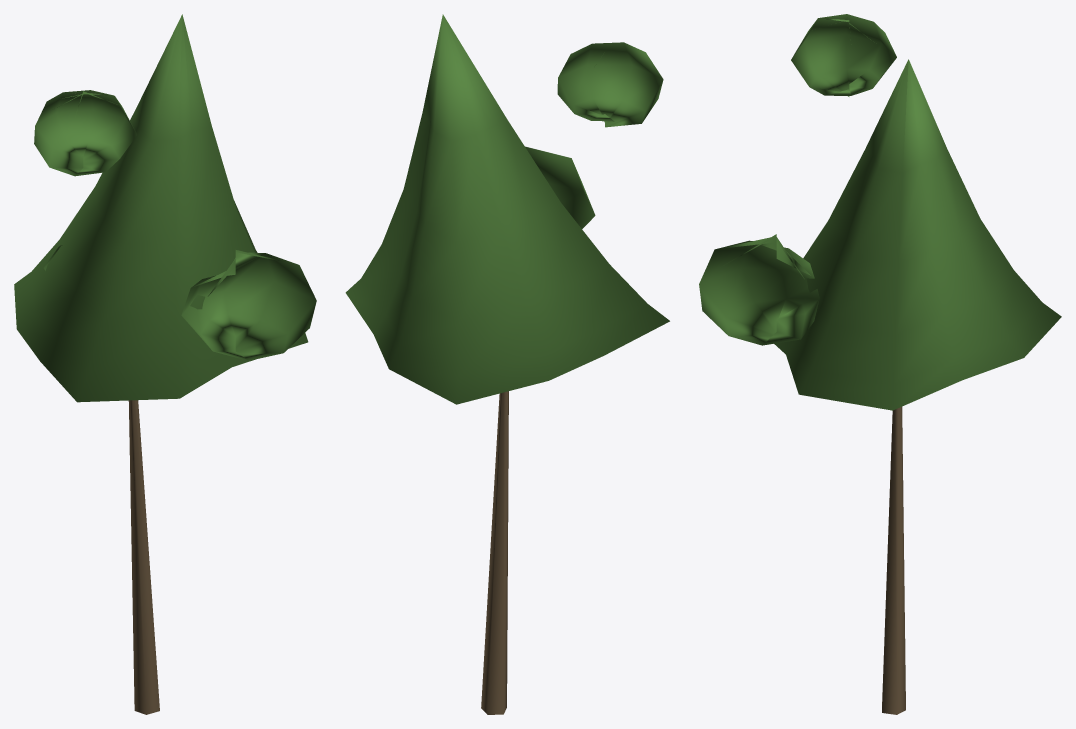
File: field_birch_b_lod2.glb
3 views of the same model, side by side, from view 1: azimuth 30°, elevation 25°; view 2: azimuth 150°, elevation 25°; view 3: azimuth 270°, elevation 25° (orthographic). The views are drawn at different scales.
Visible parts, largest first — view 1: foliage, bark; view 2: foliage, bark; view 3: foliage, bark.
Part boxes in pixels (x1,y1,x2,y2): foliage: (14, 14, 316, 402); bark: (128, 400, 159, 714); foliage: (345, 14, 669, 404); bark: (481, 391, 508, 714); foliage: (699, 14, 1061, 410); bark: (882, 407, 905, 714).
Bounding box in the file's own units: 2.92 × 6.69 × 3.27.
